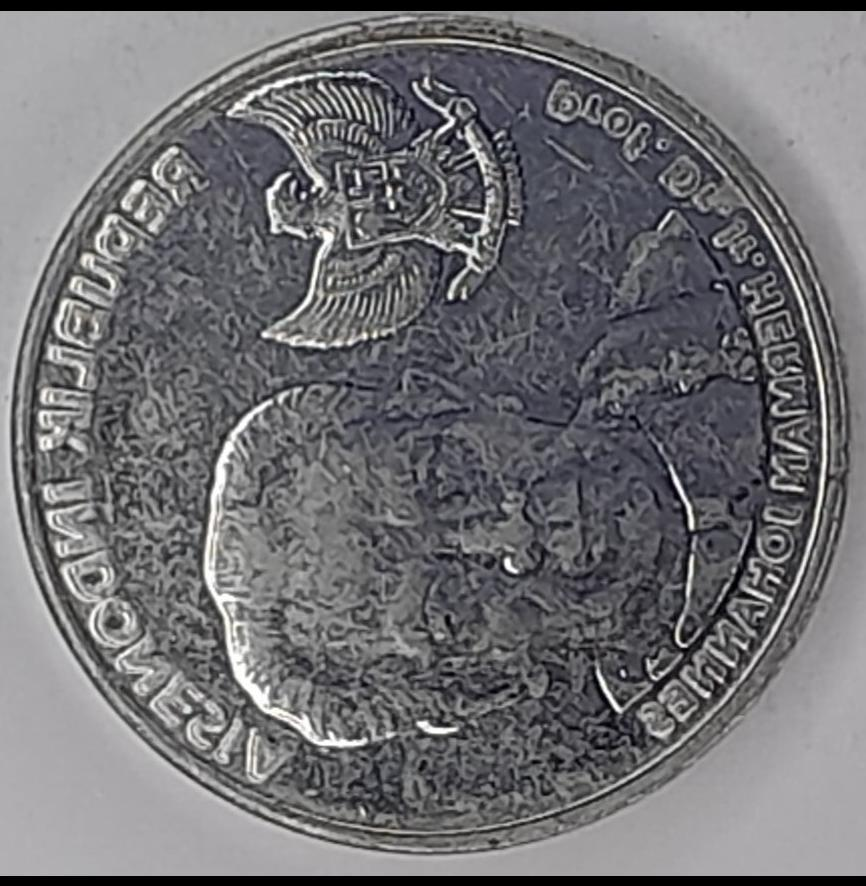coin_100_e2016: (4, 11, 855, 857)
